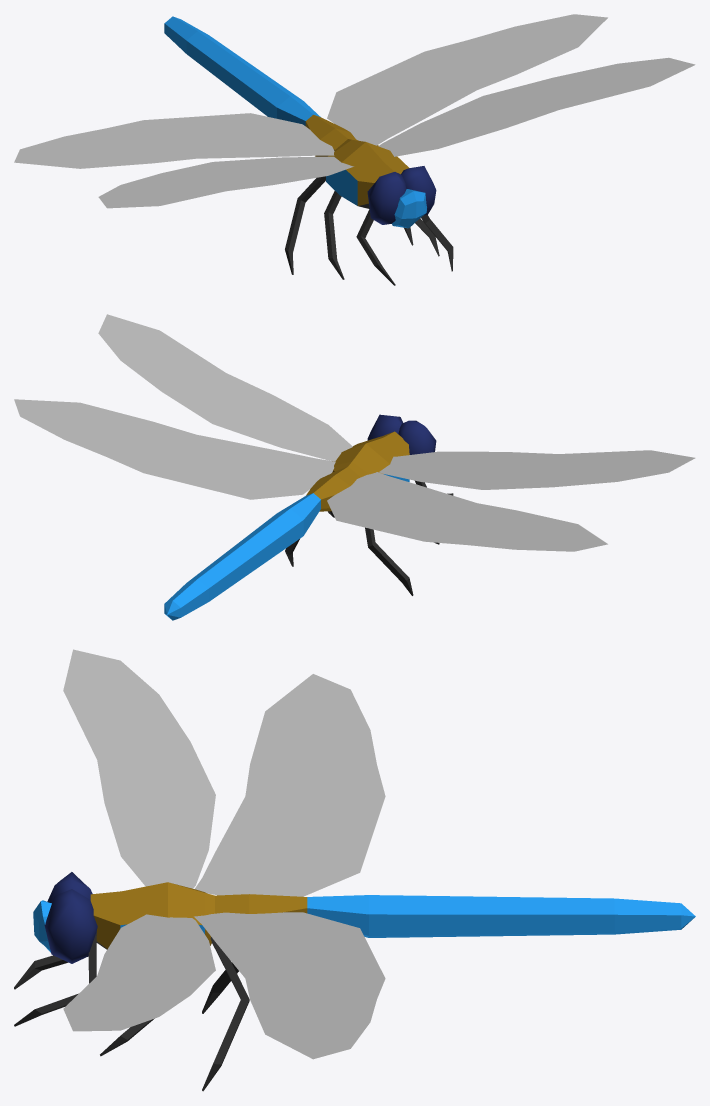
Rendered from Mesh_Dragonfly.gltf.
3 renders of one model, top to bottom at view 1: azimuth 30°, elevation 25°; view 2: azimuth 150°, elevation 25°; view 3: azimuth 270°, elevation 25°, orthographic. The views are drawn at different scales.
Parts seen in each view (by area): view 1: node-0; view 2: node-0; view 3: node-0.
Boxes of the visible parts, x1,y1,x2,y2 form: node-0: (14, 14, 695, 285); node-0: (14, 314, 695, 620); node-0: (14, 649, 695, 1091).
Size of the model in its own units: 13.33 by 3.42 by 9.96.
Materials: 2 (1 with a texture image).
